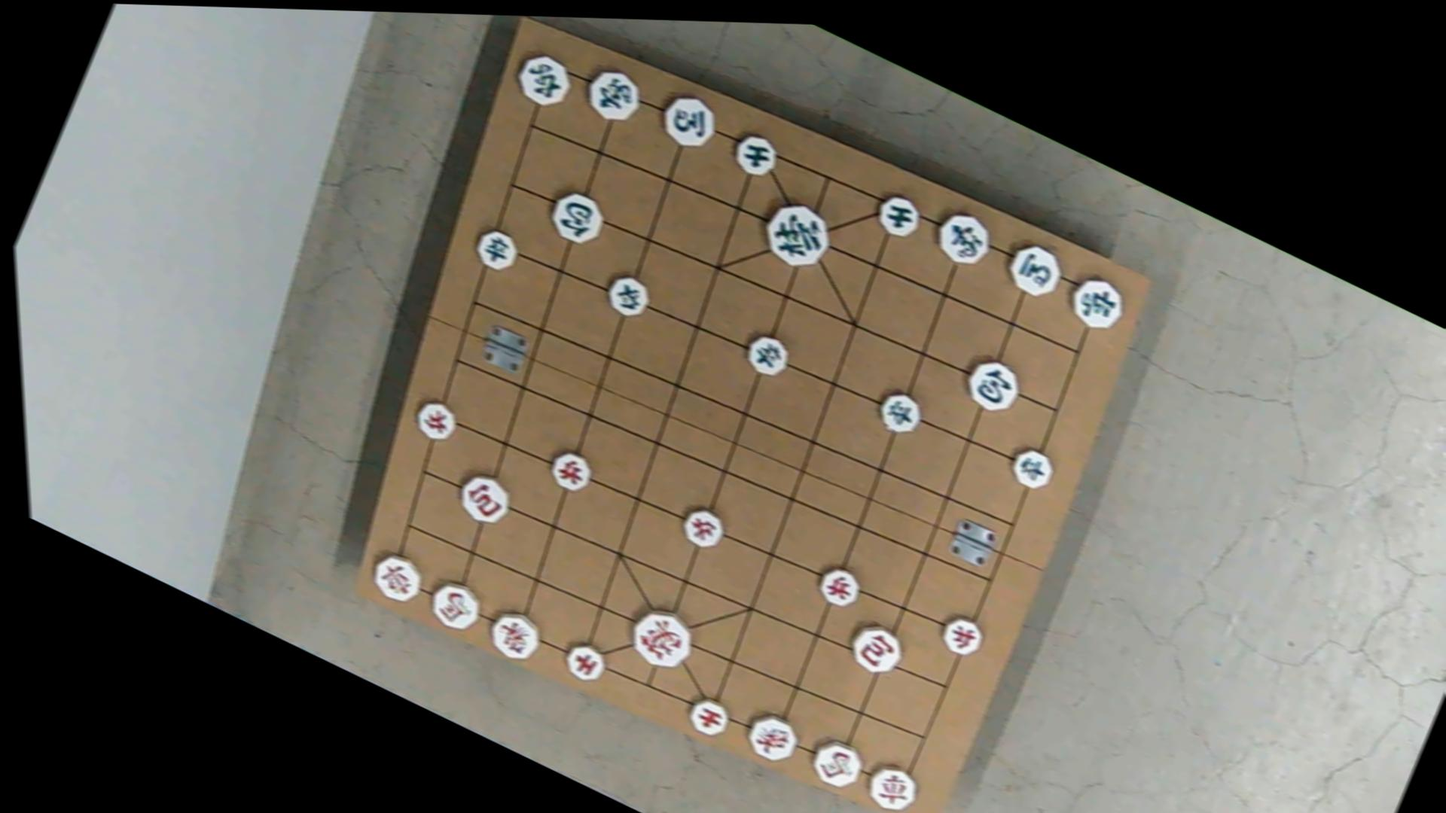cha_green: (1063, 269, 1131, 335), (512, 49, 580, 113)
cha_red: (368, 548, 429, 606), (860, 757, 923, 813)
jol_green: (602, 273, 657, 325), (874, 385, 927, 438), (740, 329, 794, 380), (1005, 444, 1059, 495), (471, 224, 523, 274)
jol_red: (932, 611, 987, 661), (412, 395, 464, 446), (547, 448, 599, 498), (676, 503, 728, 553), (811, 562, 864, 611)
ma_green: (655, 88, 725, 155), (998, 235, 1067, 301)
ma_red: (423, 575, 490, 637), (805, 734, 870, 795)
po_green: (959, 352, 1027, 418), (543, 184, 610, 248)
po_red: (841, 616, 908, 678), (452, 466, 517, 528)
sa_green: (728, 127, 784, 181), (871, 190, 926, 244)
sa_red: (685, 693, 735, 742), (557, 638, 608, 685)
sang_green: (581, 60, 652, 129), (929, 205, 999, 271)
sang_red: (481, 602, 546, 664), (743, 708, 805, 768)
wang_green: (756, 193, 840, 275)
wang_red: (624, 601, 702, 676)
